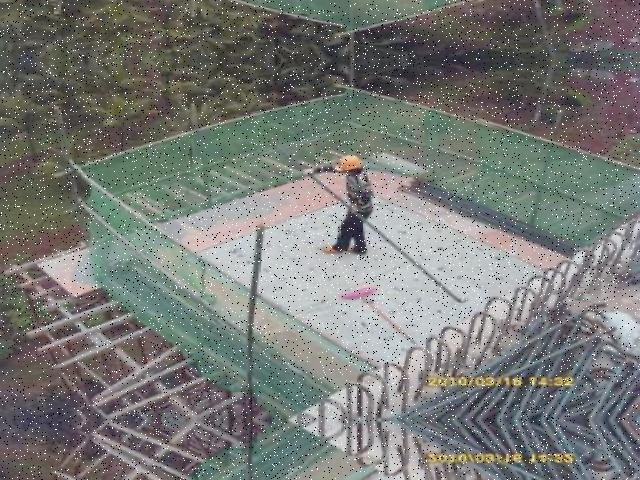Helmet: (329, 153, 364, 176)
